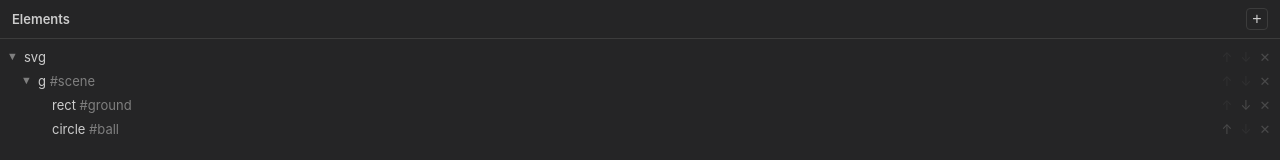
Scenario: ElementsPanel › updates when the markup buffer changes
The width and height of the screenshot is (1280, 160).
Click the text "#ball" at x=87, y=129, box x1=85 y1=121 x2=119 y2=137
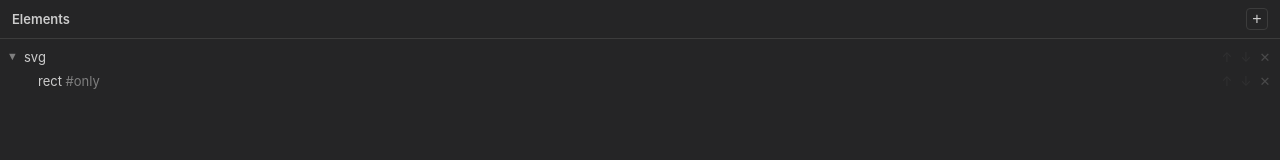
Check: the text "#ball" is gone
Check: the text "#only" is shown, box x1=62 y1=73 x2=100 y2=89
